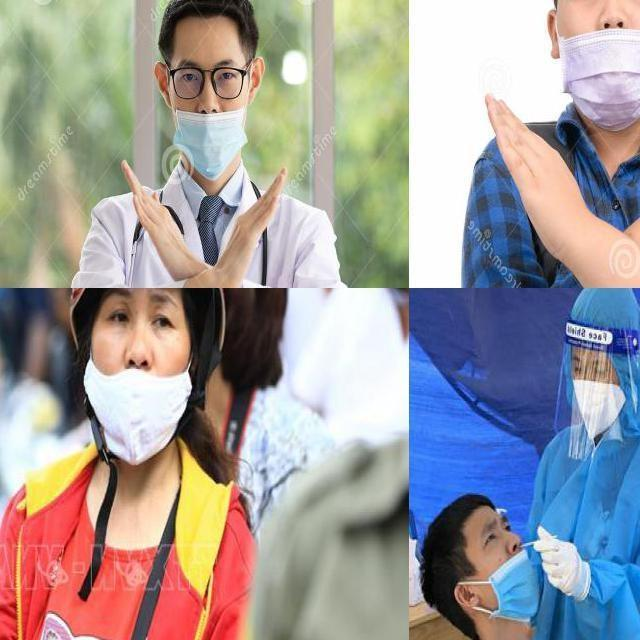hairnet: (94, 288, 183, 457), (564, 0, 639, 127), (174, 50, 244, 175), (480, 515, 540, 620)
